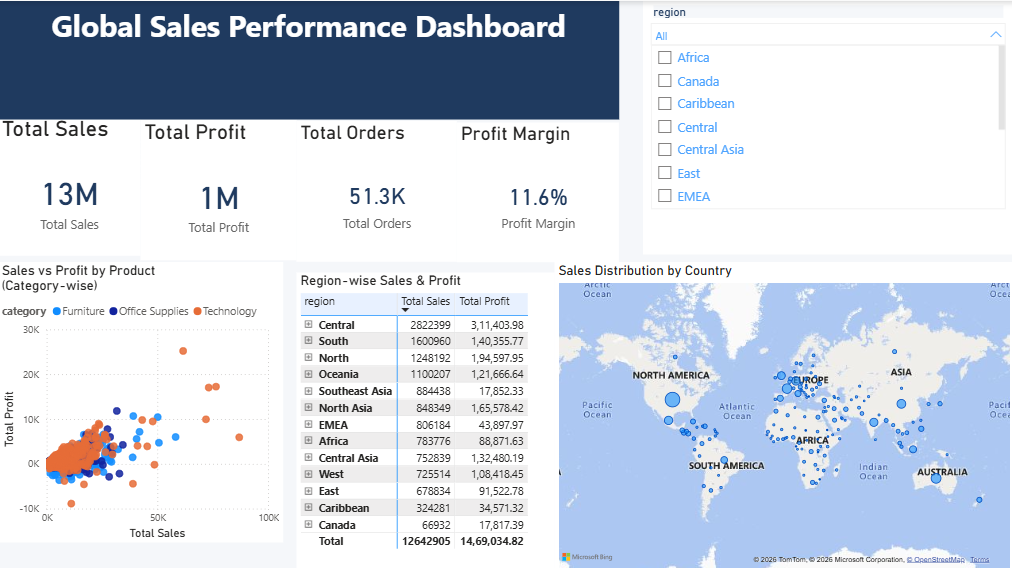

The page's visual inventory and layout, read from the dashboard file:
{"tool":"powerbi","page":{"name":"Page 1","canvas":[1280,720],"ordinal":0},"visuals":[{"type":"card","title":"Total Sales","fields":{"Values":["SuperStoreOrders.Total Sales"]},"box":[0,143.6,179.5,177.6],"z":0},{"type":"card","title":"Total Profit","fields":{"Values":["SuperStoreOrders.Total Profit"]},"box":[179.5,149.3,196.5,177.6],"z":1000},{"type":"card","title":"Total Orders","fields":{"Values":["SuperStoreOrders.Total Orders"]},"box":[376.1,151.2,202.2,177.6],"z":2000},{"type":"card","title":"Profit Margin","fields":{"Values":["SuperStoreOrders.Profit Margin"]},"box":[578.3,153.1,204.1,175.7],"z":3000},{"type":"scatterChart","title":"Sales vs Profit by Product (Category-wise)","fields":{"X":["SuperStoreOrders.Total Sales"],"Y":["SuperStoreOrders.Total Profit"],"Series":["SuperStoreOrders.category"],"Category":["SuperStoreOrders.product_name"]},"box":[0,328.8,359.1,353.4],"z":4000},{"type":"pivotTable","title":"Region-wise Sales & Profit","fields":{"Rows":["SuperStoreOrders.region","SuperStoreOrders.product_name"],"Values":["SuperStoreOrders.Total Sales","SuperStoreOrders.Total Profit"]},"box":[376.1,342,325,378],"z":5000},{"type":"map","title":"Sales Distribution by Country","fields":{"Category":["SuperStoreOrders.country"],"Size":["SuperStoreOrders.Total Sales"]},"box":[701.1,328.8,578.3,391.2],"z":6000},{"type":"textbox","box":[0,0,782.4,149.3],"z":7000},{"type":"slicer","fields":{"Values":["SuperStoreOrders.region"]},"box":[812.6,0,466.8,319.4],"z":8000}]}

Visuals, with their boxes in screenshot pixels (x1, y1, x2, y2), scaled from the page's 1280x720 canvas onto the 1012x568 screenshot:
"Total Sales" card: (0,113,142,253)
"Total Profit" card: (142,118,297,258)
"Total Orders" card: (297,119,457,259)
"Profit Margin" card: (457,121,619,259)
"Sales vs Profit by Product (Category-wise)" scatterChart: (0,259,284,538)
"Region-wise Sales & Profit" pivotTable: (297,270,554,567)
"Sales Distribution by Country" map: (554,259,1011,567)
textbox: (0,0,619,118)
slicer - SuperStoreOrders.region: (642,0,1011,252)
